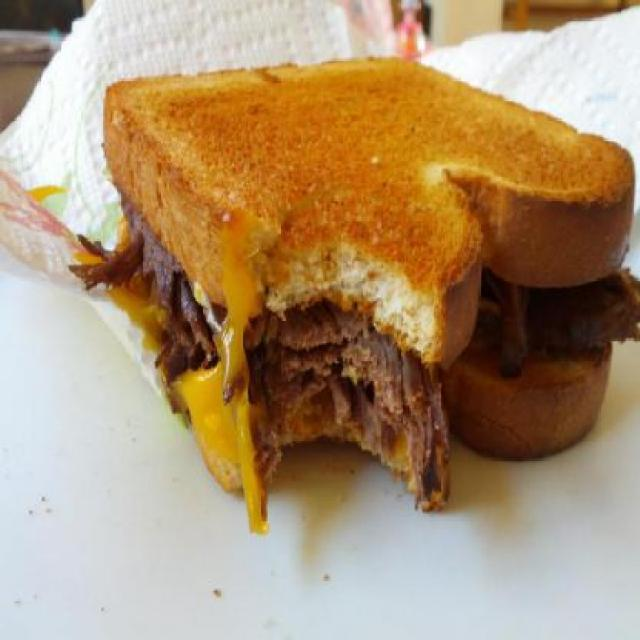Sandwich: (67, 46, 640, 529)
